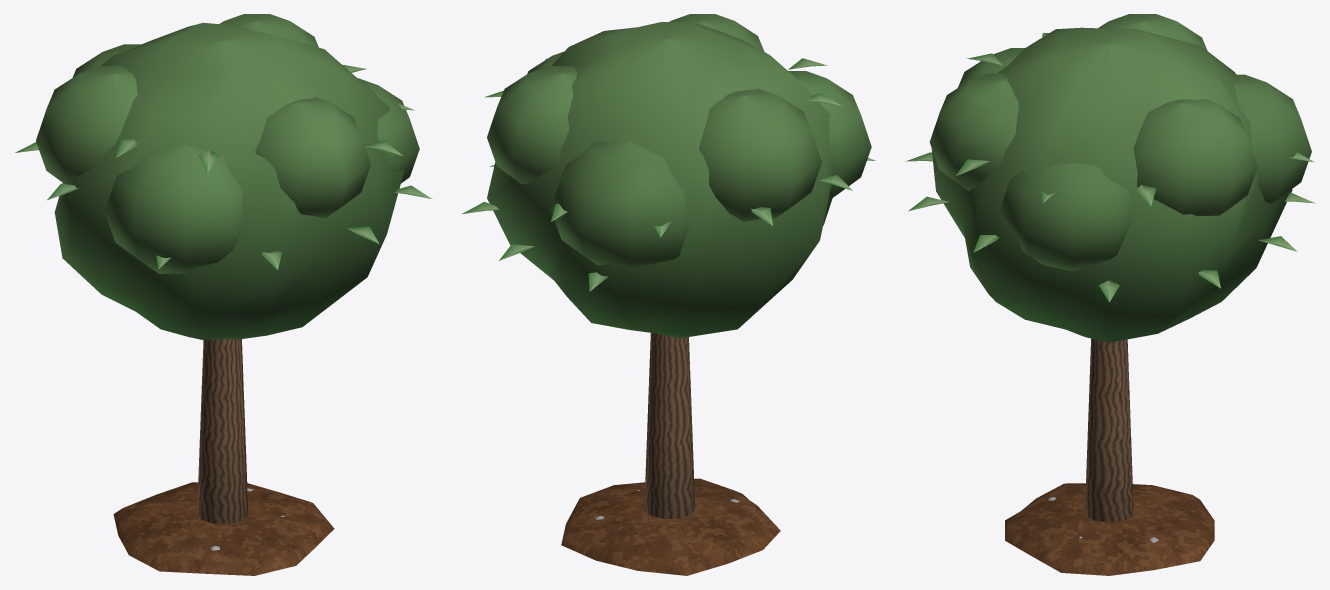
The model's file is plant-apple-4.glb.
3 views of the same model, side by side, from view 1: azimuth 30°, elevation 25°; view 2: azimuth 150°, elevation 25°; view 3: azimuth 270°, elevation 25° (orthographic).
Parts seen in each view (by area): view 1: plant-apple-4; view 2: plant-apple-4; view 3: plant-apple-4.
Part boxes in pixels (left/top/right/bottom): plant-apple-4: left=15, top=14, right=432, bottom=575; plant-apple-4: left=462, top=14, right=875, bottom=575; plant-apple-4: left=905, top=14, right=1314, bottom=575.
Size of the model in its own units: 1.93 by 2.5 by 1.91.
Materials: 5 (3 with a texture image).
